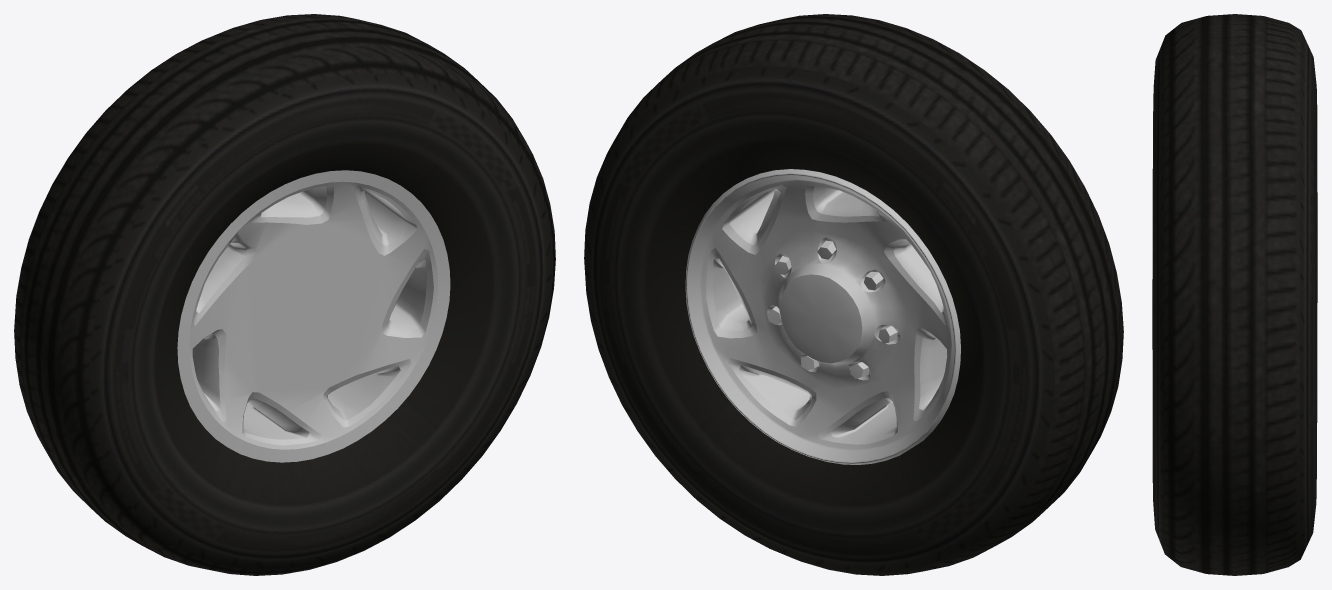
3 renders of one model, left to right at view 1: azimuth 30°, elevation 25°; view 2: azimuth 150°, elevation 25°; view 3: azimuth 270°, elevation 25°, orthographic. The views are drawn at different scales.
Visible parts, largest first — view 1: P615_5A_901C_L_1_DM_P615_5A_901C_L, P615_5A_901C_L_P615_5A_901C_L_2_DaS; view 2: P615_5A_901C_L_1_DM_P615_5A_901C_L, P615_5A_901C_L_P615_5A_901C_L_2_DaS; view 3: P615_5A_901C_L_1_DM_P615_5A_901C_L.
Boxes of the visible parts, x1,y1,x2,y2 form: P615_5A_901C_L_1_DM_P615_5A_901C_L: (14, 14, 555, 575); P615_5A_901C_L_P615_5A_901C_L_2_DaS: (177, 170, 450, 462); P615_5A_901C_L_1_DM_P615_5A_901C_L: (584, 14, 1123, 575); P615_5A_901C_L_P615_5A_901C_L_2_DaS: (685, 169, 960, 464); P615_5A_901C_L_1_DM_P615_5A_901C_L: (1152, 14, 1317, 575).
Size of the model in its own units: 86.11 by 86.09 by 25.3.
